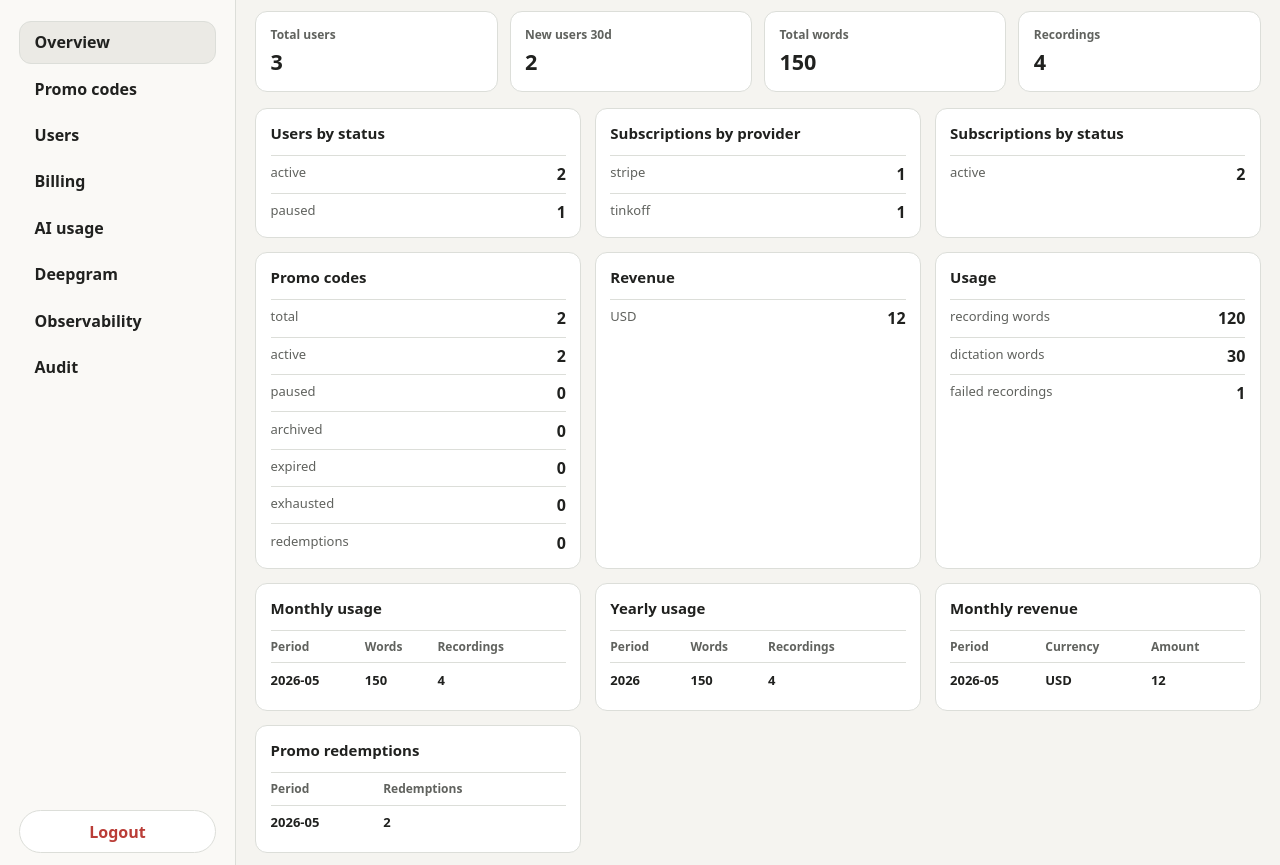
Test: AdminConsoleClient — error and branch coverage › surfaces a logout failure without redirecting
(page scrolled)
Expected: the text "Total users" is shown, [271,26,336,44]
Click the button with test id "admin-logout-button" at x=118, y=832, box [19,810,216,853]
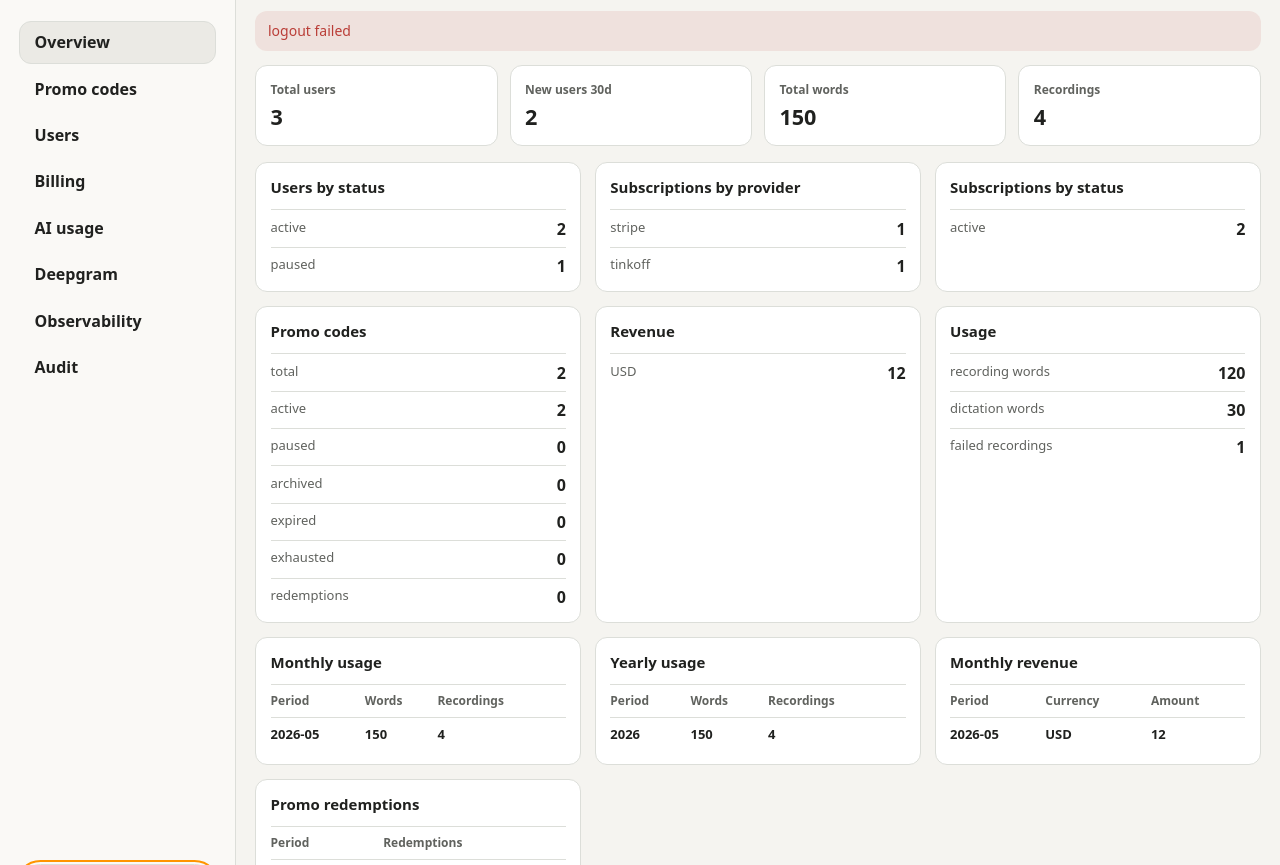
Expected: the text "logout failed" is shown, [255,11,1261,51]
